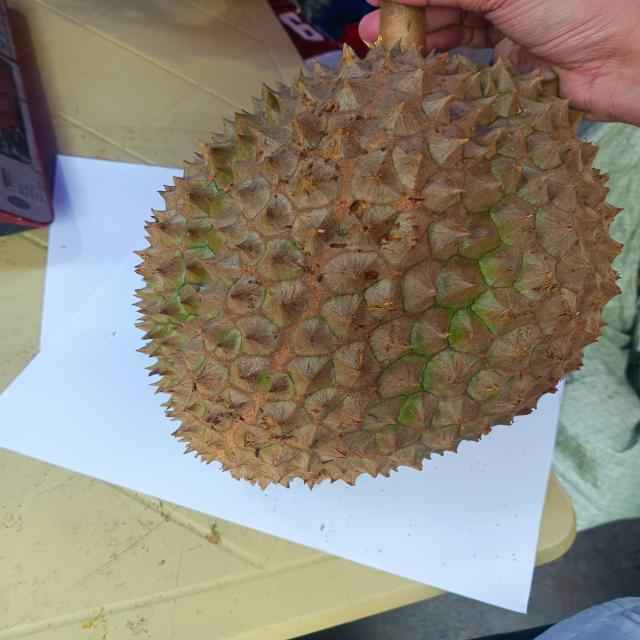mature: (131, 39, 624, 492)
